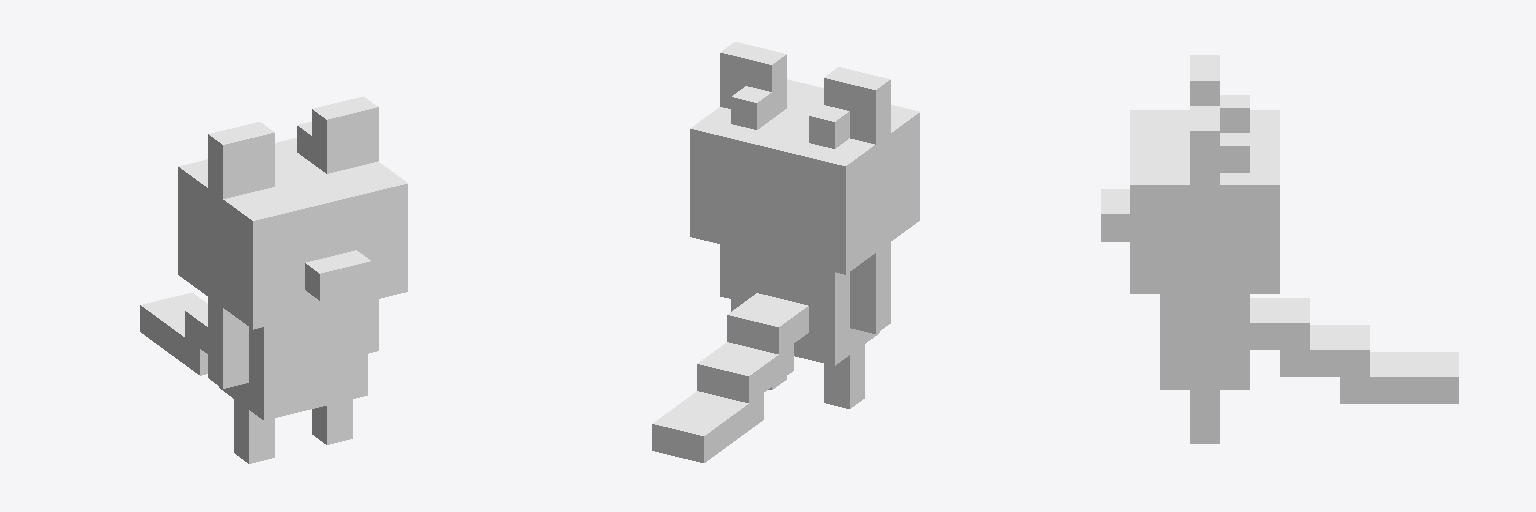
The model's file is Player_Cheetah.obj.
3 renders of one model, left to right at view 1: azimuth 30°, elevation 25°; view 2: azimuth 150°, elevation 25°; view 3: azimuth 270°, elevation 25°, orthographic.
Visible parts, largest first — view 1: object 1; view 2: object 1; view 3: object 1.
Boxes of the visible parts, x1,y1,x2,y2 form: object 1: [140, 96, 407, 463]; object 1: [652, 42, 919, 462]; object 1: [1101, 55, 1458, 443].
Bounding box in the file's own units: 0.6 × 1.2 × 1.2.